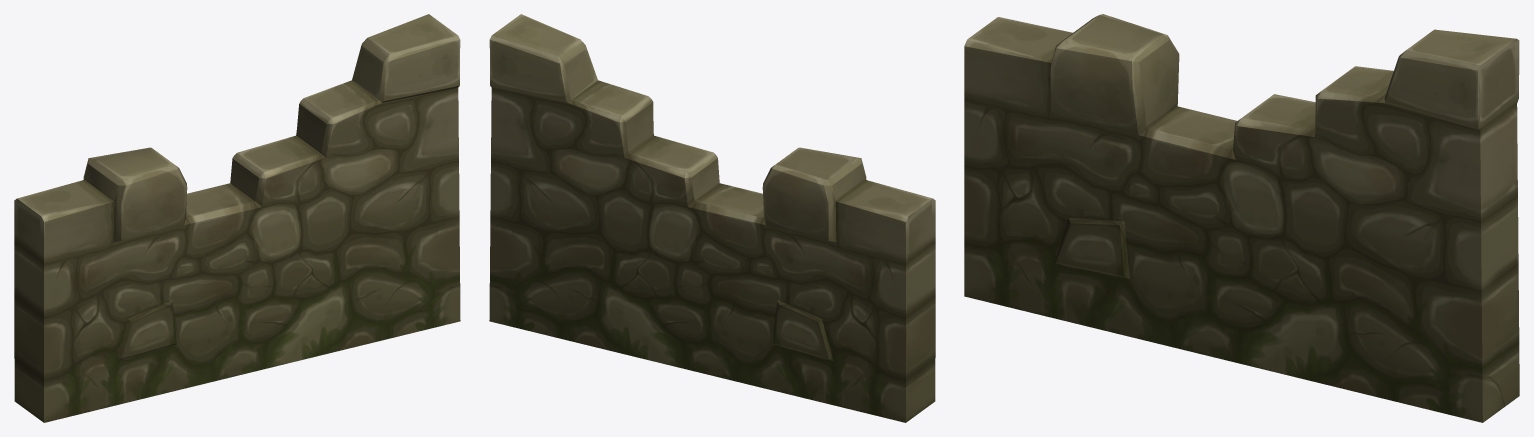
File: Wall_2.FBX
3 renders of one model, left to right at view 1: azimuth 30°, elevation 25°; view 2: azimuth 150°, elevation 25°; view 3: azimuth 330°, elevation 25°, orthographic. The views are drawn at different scales.
Visible parts, largest first — view 1: Wall_2; view 2: Wall_2; view 3: Wall_2.
Part boxes in pixels (<box>): Wall_2: <box>14,14,460,422</box>; Wall_2: <box>489,14,935,422</box>; Wall_2: <box>964,14,1519,422</box>.
Size of the model in its own units: 2009 by 1320 by 314.
